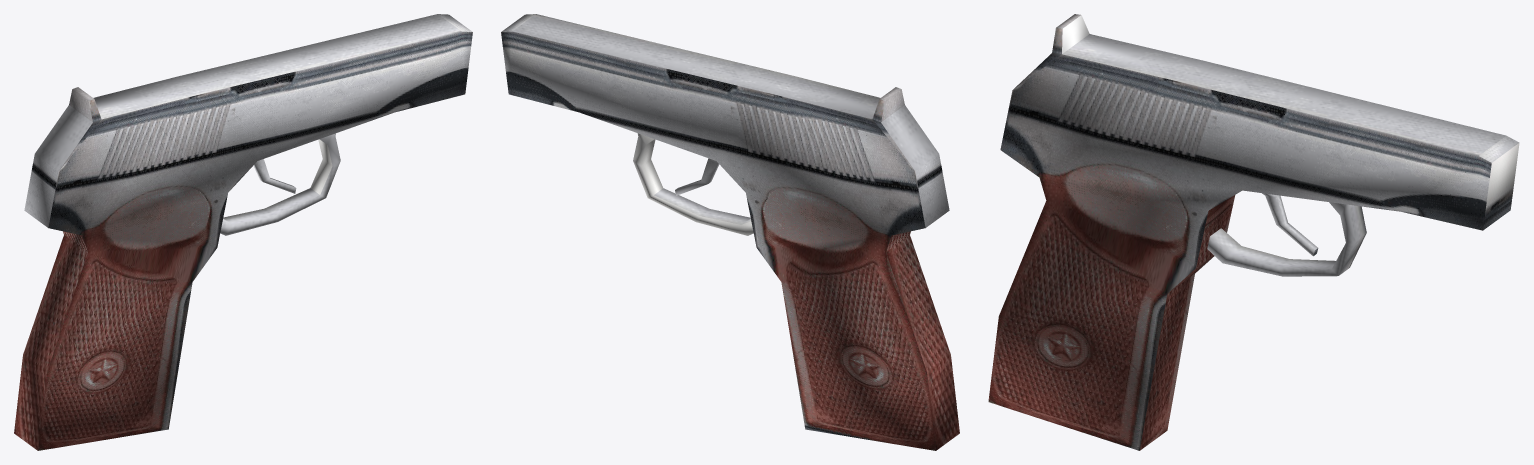
File: pistol.fbx
3 views of the same model, side by side, from view 1: azimuth 30°, elevation 25°; view 2: azimuth 150°, elevation 25°; view 3: azimuth 330°, elevation 25° (orthographic). The views are drawn at different scales.
Parts seen in each view (by area): view 1: Plane.002, Plane.003; view 2: Plane.002, Plane.003; view 3: Plane.002, Plane.003.
Boxes of the visible parts, x1,y1,x2,y2 form: Plane.002: [14, 14, 472, 450]; Plane.003: [253, 159, 296, 193]; Plane.002: [501, 14, 959, 450]; Plane.003: [675, 158, 719, 195]; Plane.002: [988, 14, 1519, 450]; Plane.003: [1262, 193, 1318, 256].
Size of the model in its own units: 28.55 by 21.63 by 2.73.
